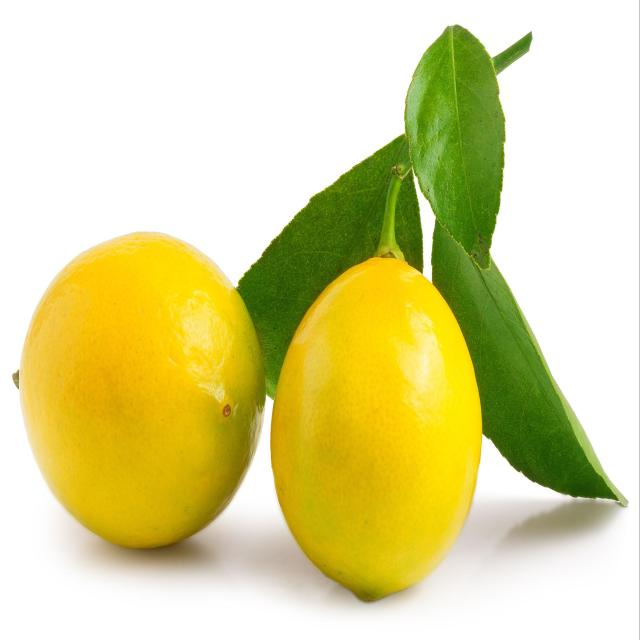lemon: (9, 225, 270, 555), (264, 243, 488, 611)
